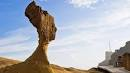yehliu: (19, 1, 66, 45)
